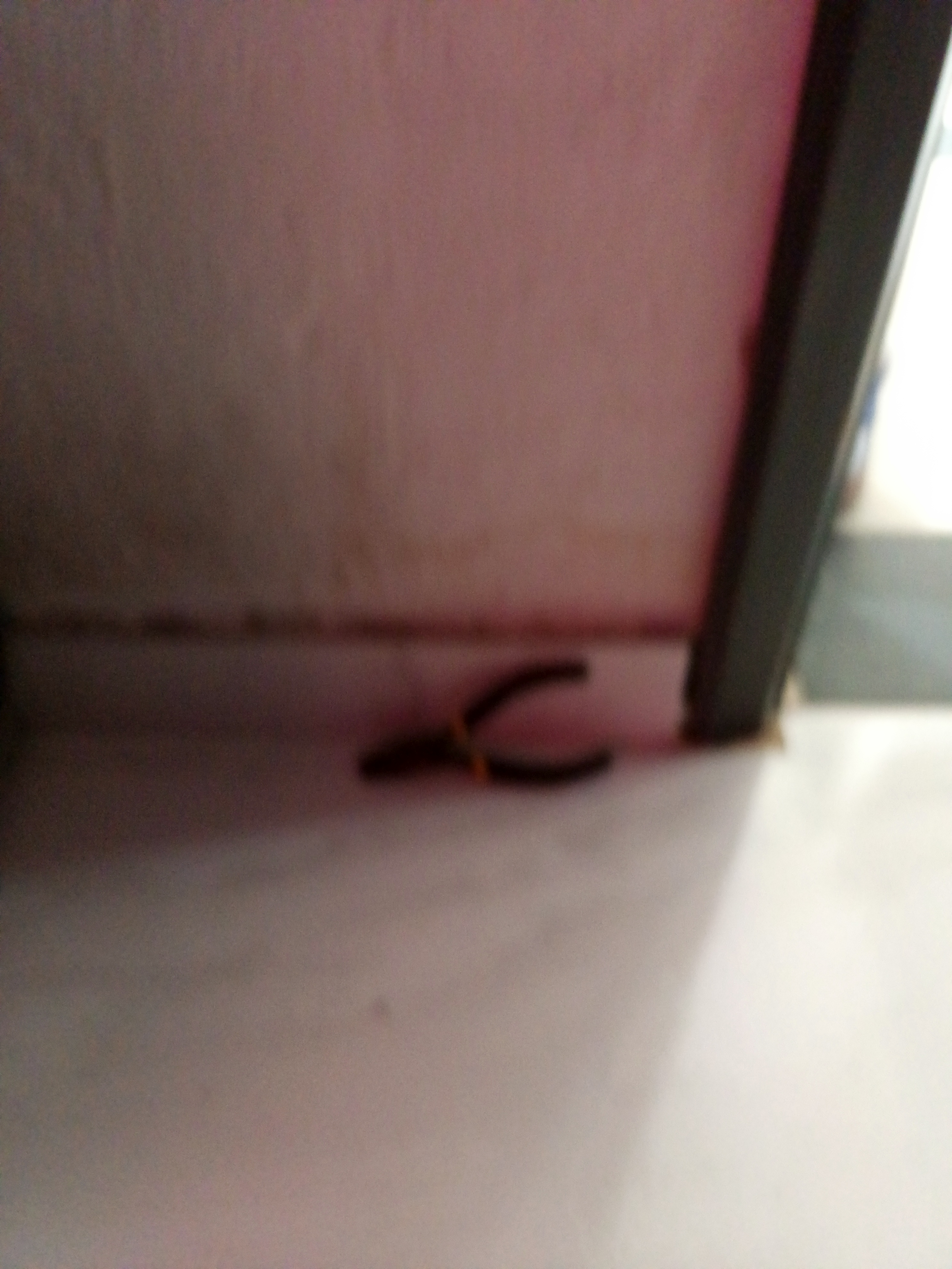Pinzas: (360, 661, 612, 784)
